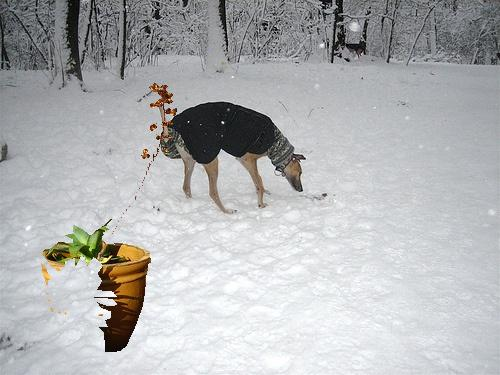tampered: (42, 84, 177, 352)
